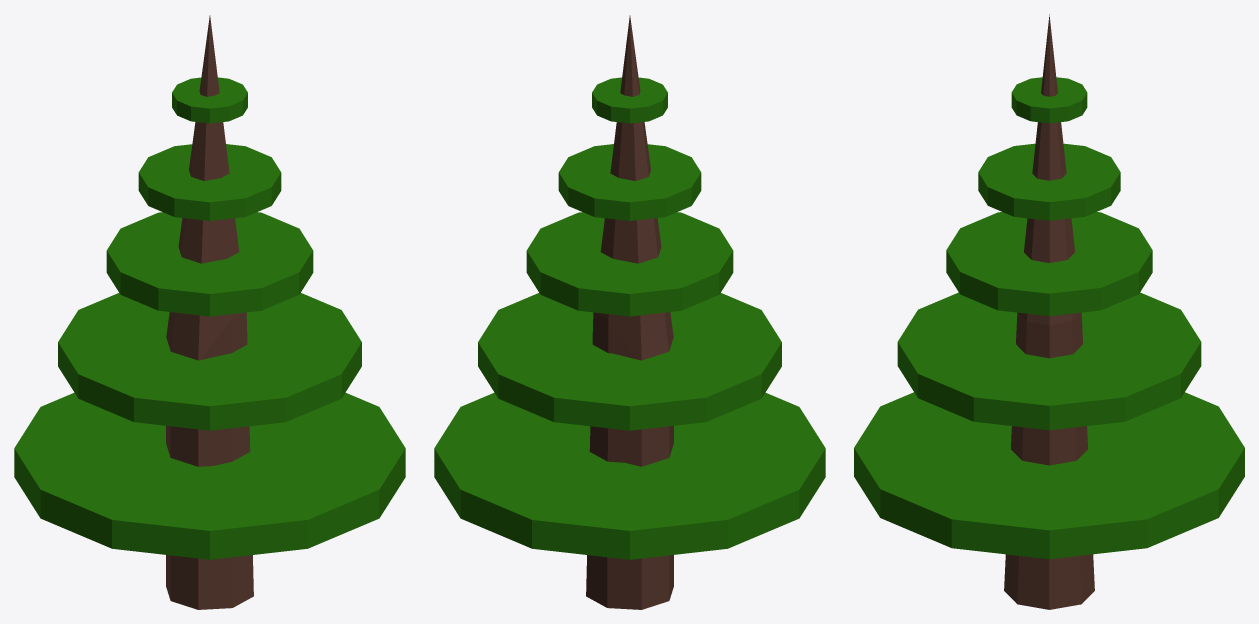
File: Tree.fbx
3 views of the same model, side by side, from view 1: azimuth 30°, elevation 25°; view 2: azimuth 150°, elevation 25°; view 3: azimuth 270°, elevation 25° (orthographic).
Visible parts, largest first — view 1: Cylinder; view 2: Cylinder; view 3: Cylinder.
Part boxes in pixels (x1,y1,x2,y2): Cylinder: (14, 15, 405, 609); Cylinder: (434, 15, 825, 609); Cylinder: (854, 14, 1244, 609).
Size of the model in its own units: 430 by 700 by 430.
